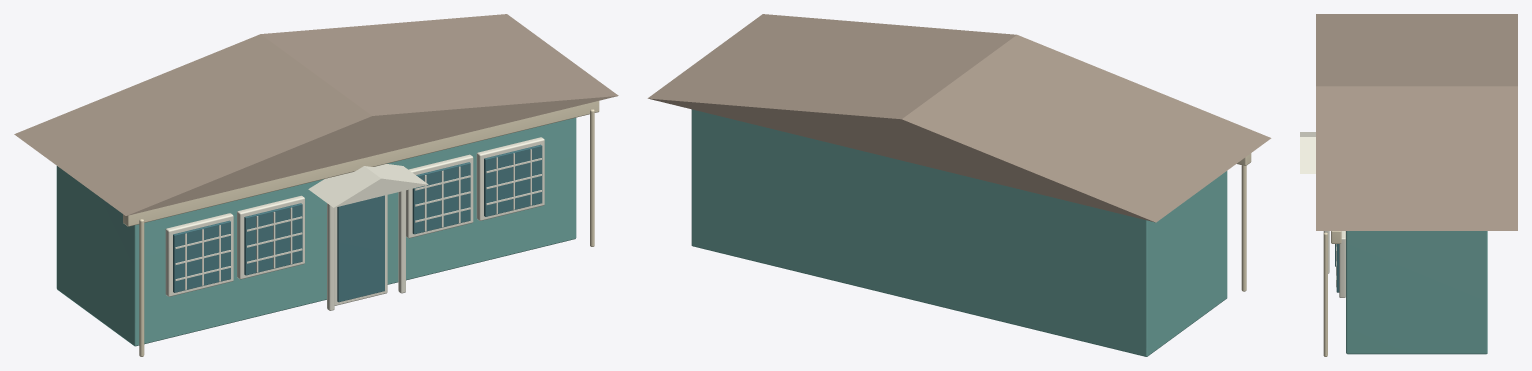
The model's file is asset08.glb.
3 views of the same model, side by side, from view 1: azimuth 30°, elevation 25°; view 2: azimuth 150°, elevation 25°; view 3: azimuth 270°, elevation 25° (orthographic). The views are drawn at different scales.
Parts seen in each view (by area): view 1: 08_teal_station; view 2: 08_teal_station; view 3: 08_teal_station.
Boxes of the visible parts, x1,y1,x2,y2 form: 08_teal_station: (14,14,618,356); 08_teal_station: (647,14,1271,356); 08_teal_station: (1300,14,1517,356).
Bounding box in the file's own units: 1 × 0.3741 × 0.4241.
